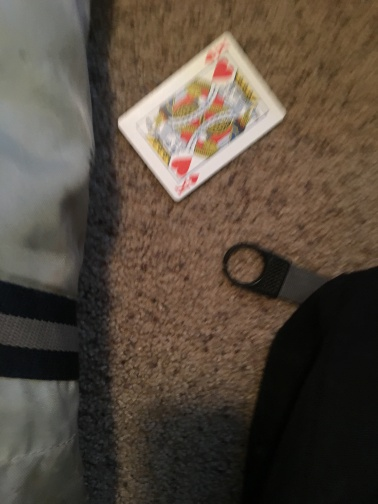king: (115, 32, 288, 201)
